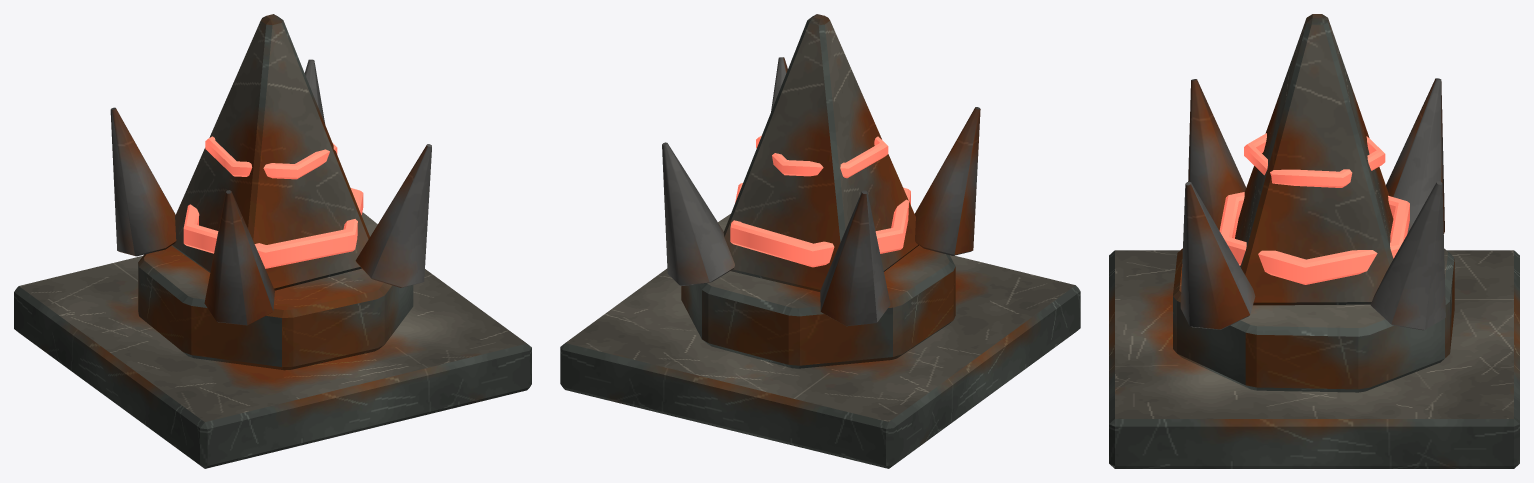
Rendered from R4X_DamageBooster_LOD1.glb.
3 views of the same model, side by side, from view 1: azimuth 30°, elevation 25°; view 2: azimuth 150°, elevation 25°; view 3: azimuth 270°, elevation 25° (orthographic). The views are drawn at different scales.
Visible parts, largest first — view 1: R4X_DamageBooster_LOD1; view 2: R4X_DamageBooster_LOD1; view 3: R4X_DamageBooster_LOD1.
Boxes of the visible parts, x1=… form: R4X_DamageBooster_LOD1: x1=14, y1=14, x2=531, y2=468; R4X_DamageBooster_LOD1: x1=560, y1=14, x2=1080, y2=468; R4X_DamageBooster_LOD1: x1=1109, y1=14, x2=1519, y2=468.
Bounding box in the file's own units: 0.52 × 0.515 × 0.52.
4 materials, 3 textured.
